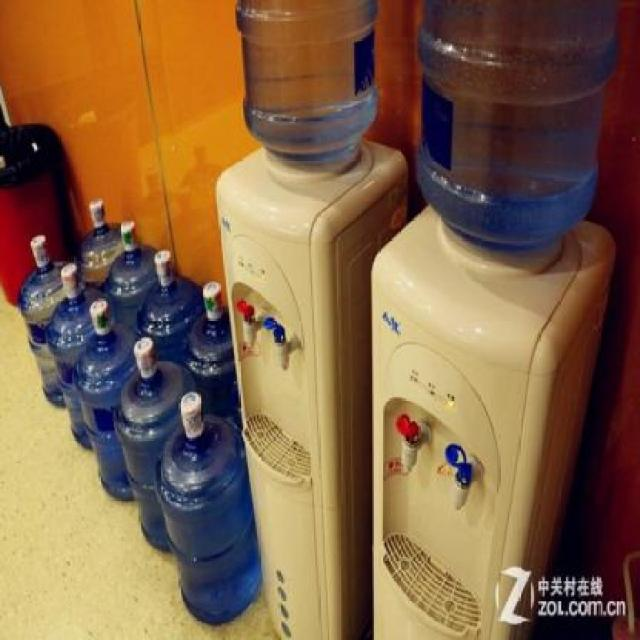cooler: (375, 0, 621, 640), (217, 0, 405, 640)
